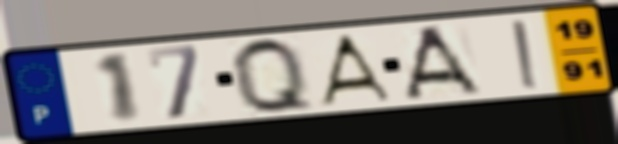1: (94, 49, 143, 126)
7: (143, 43, 203, 124)
A: (401, 23, 487, 101), (314, 32, 395, 107)
I: (508, 17, 545, 91)
Q: (227, 35, 320, 116)
